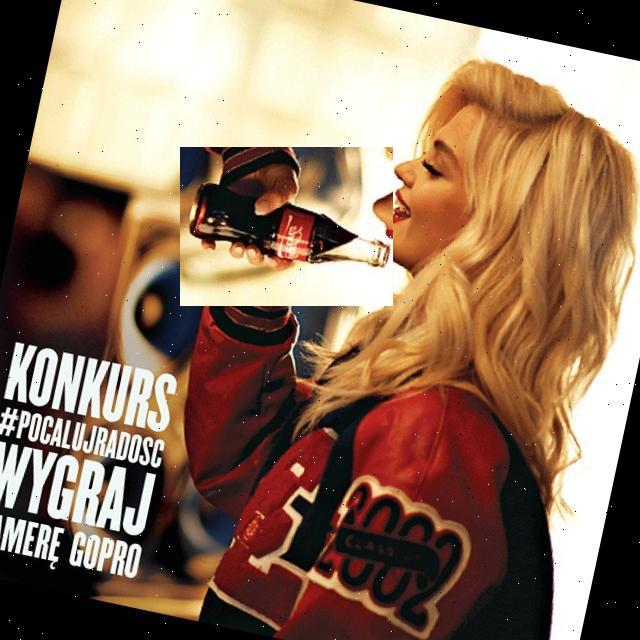coca-cola: (180, 147, 393, 306)
